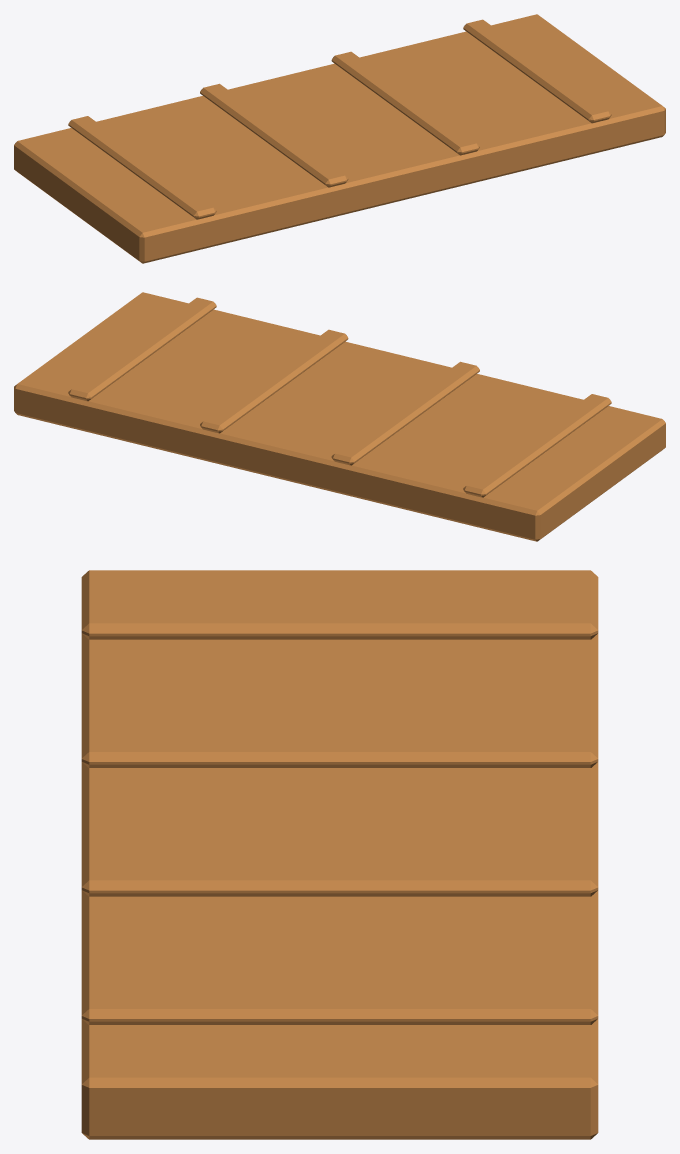
The model's file is drawbridge.glb.
3 renders of one model, top to bottom at view 1: azimuth 30°, elevation 25°; view 2: azimuth 150°, elevation 25°; view 3: azimuth 270°, elevation 25°, orthographic. The views are drawn at different scales.
Parts seen in each view (by area): view 1: drawbridge; view 2: drawbridge; view 3: drawbridge.
Part boxes in pixels (x1,y1,x2,y2): drawbridge: [14, 14, 665, 263]; drawbridge: [14, 292, 665, 541]; drawbridge: [81, 570, 598, 1139].
Size of the model in its own units: 0.8 by 0.0565 by 0.34.
